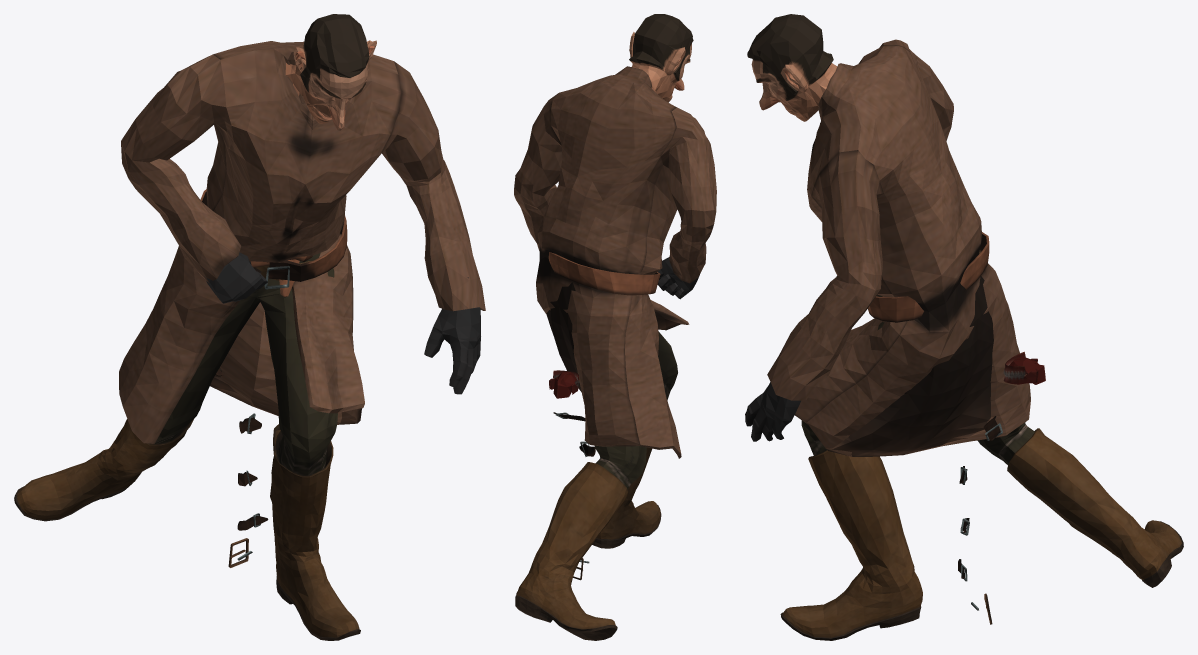
The model's file is sniper01_000014.obj.
3 views of the same model, side by side, from view 1: azimuth 30°, elevation 25°; view 2: azimuth 150°, elevation 25°; view 3: azimuth 270°, elevation 25° (orthographic). The views are drawn at different scales.
Parts seen in each view (by area): view 1: Tops, Shoes, BodyParts, Bottoms; view 2: Tops, Shoes, BodyParts, Bottoms; view 3: Tops, Shoes, BodyParts, Bottoms.
Boxes of the visible parts, left/top/right/bottom form: Tops: left=119, top=41, right=485, bottom=560; Shoes: left=14, top=419, right=360, bottom=640; BodyParts: left=204, top=14, right=480, bottom=394; Bottoms: left=154, top=253, right=337, bottom=567; Tops: left=514, top=66, right=716, bottom=563; Shoes: left=515, top=447, right=661, bottom=640; BodyParts: left=549, top=14, right=699, bottom=398; Bottoms: left=573, top=331, right=677, bottom=580; Tops: left=767, top=39, right=1030, bottom=610; Shoes: left=780, top=428, right=1183, bottom=640; BodyParts: left=745, top=14, right=1045, bottom=441; Bottoms: left=801, top=250, right=1034, bottom=624.
Bounding box in the file's own units: 1.08 × 2.27 × 1.48.
